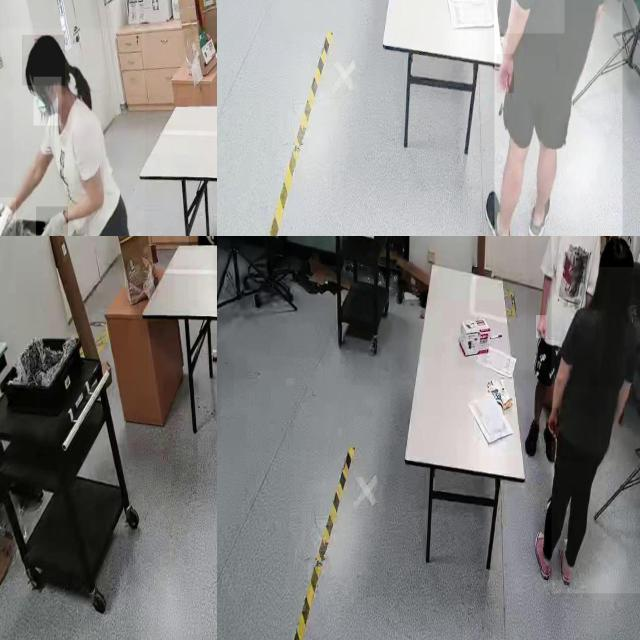face_mask: (34, 76, 62, 126)
hand_glove: (35, 206, 68, 236), (0, 197, 16, 236), (197, 236, 217, 245)
hand_noglove: (496, 54, 514, 94), (546, 408, 559, 442), (536, 315, 547, 339)
head_nohelmet: (22, 35, 65, 85), (599, 236, 634, 268)
person: (551, 236, 640, 594), (494, 0, 623, 236), (0, 28, 145, 236), (525, 236, 598, 461)
shoes: (481, 189, 514, 236), (526, 189, 554, 236), (533, 530, 554, 587), (556, 535, 576, 591), (524, 418, 542, 458), (211, 328, 217, 364)
